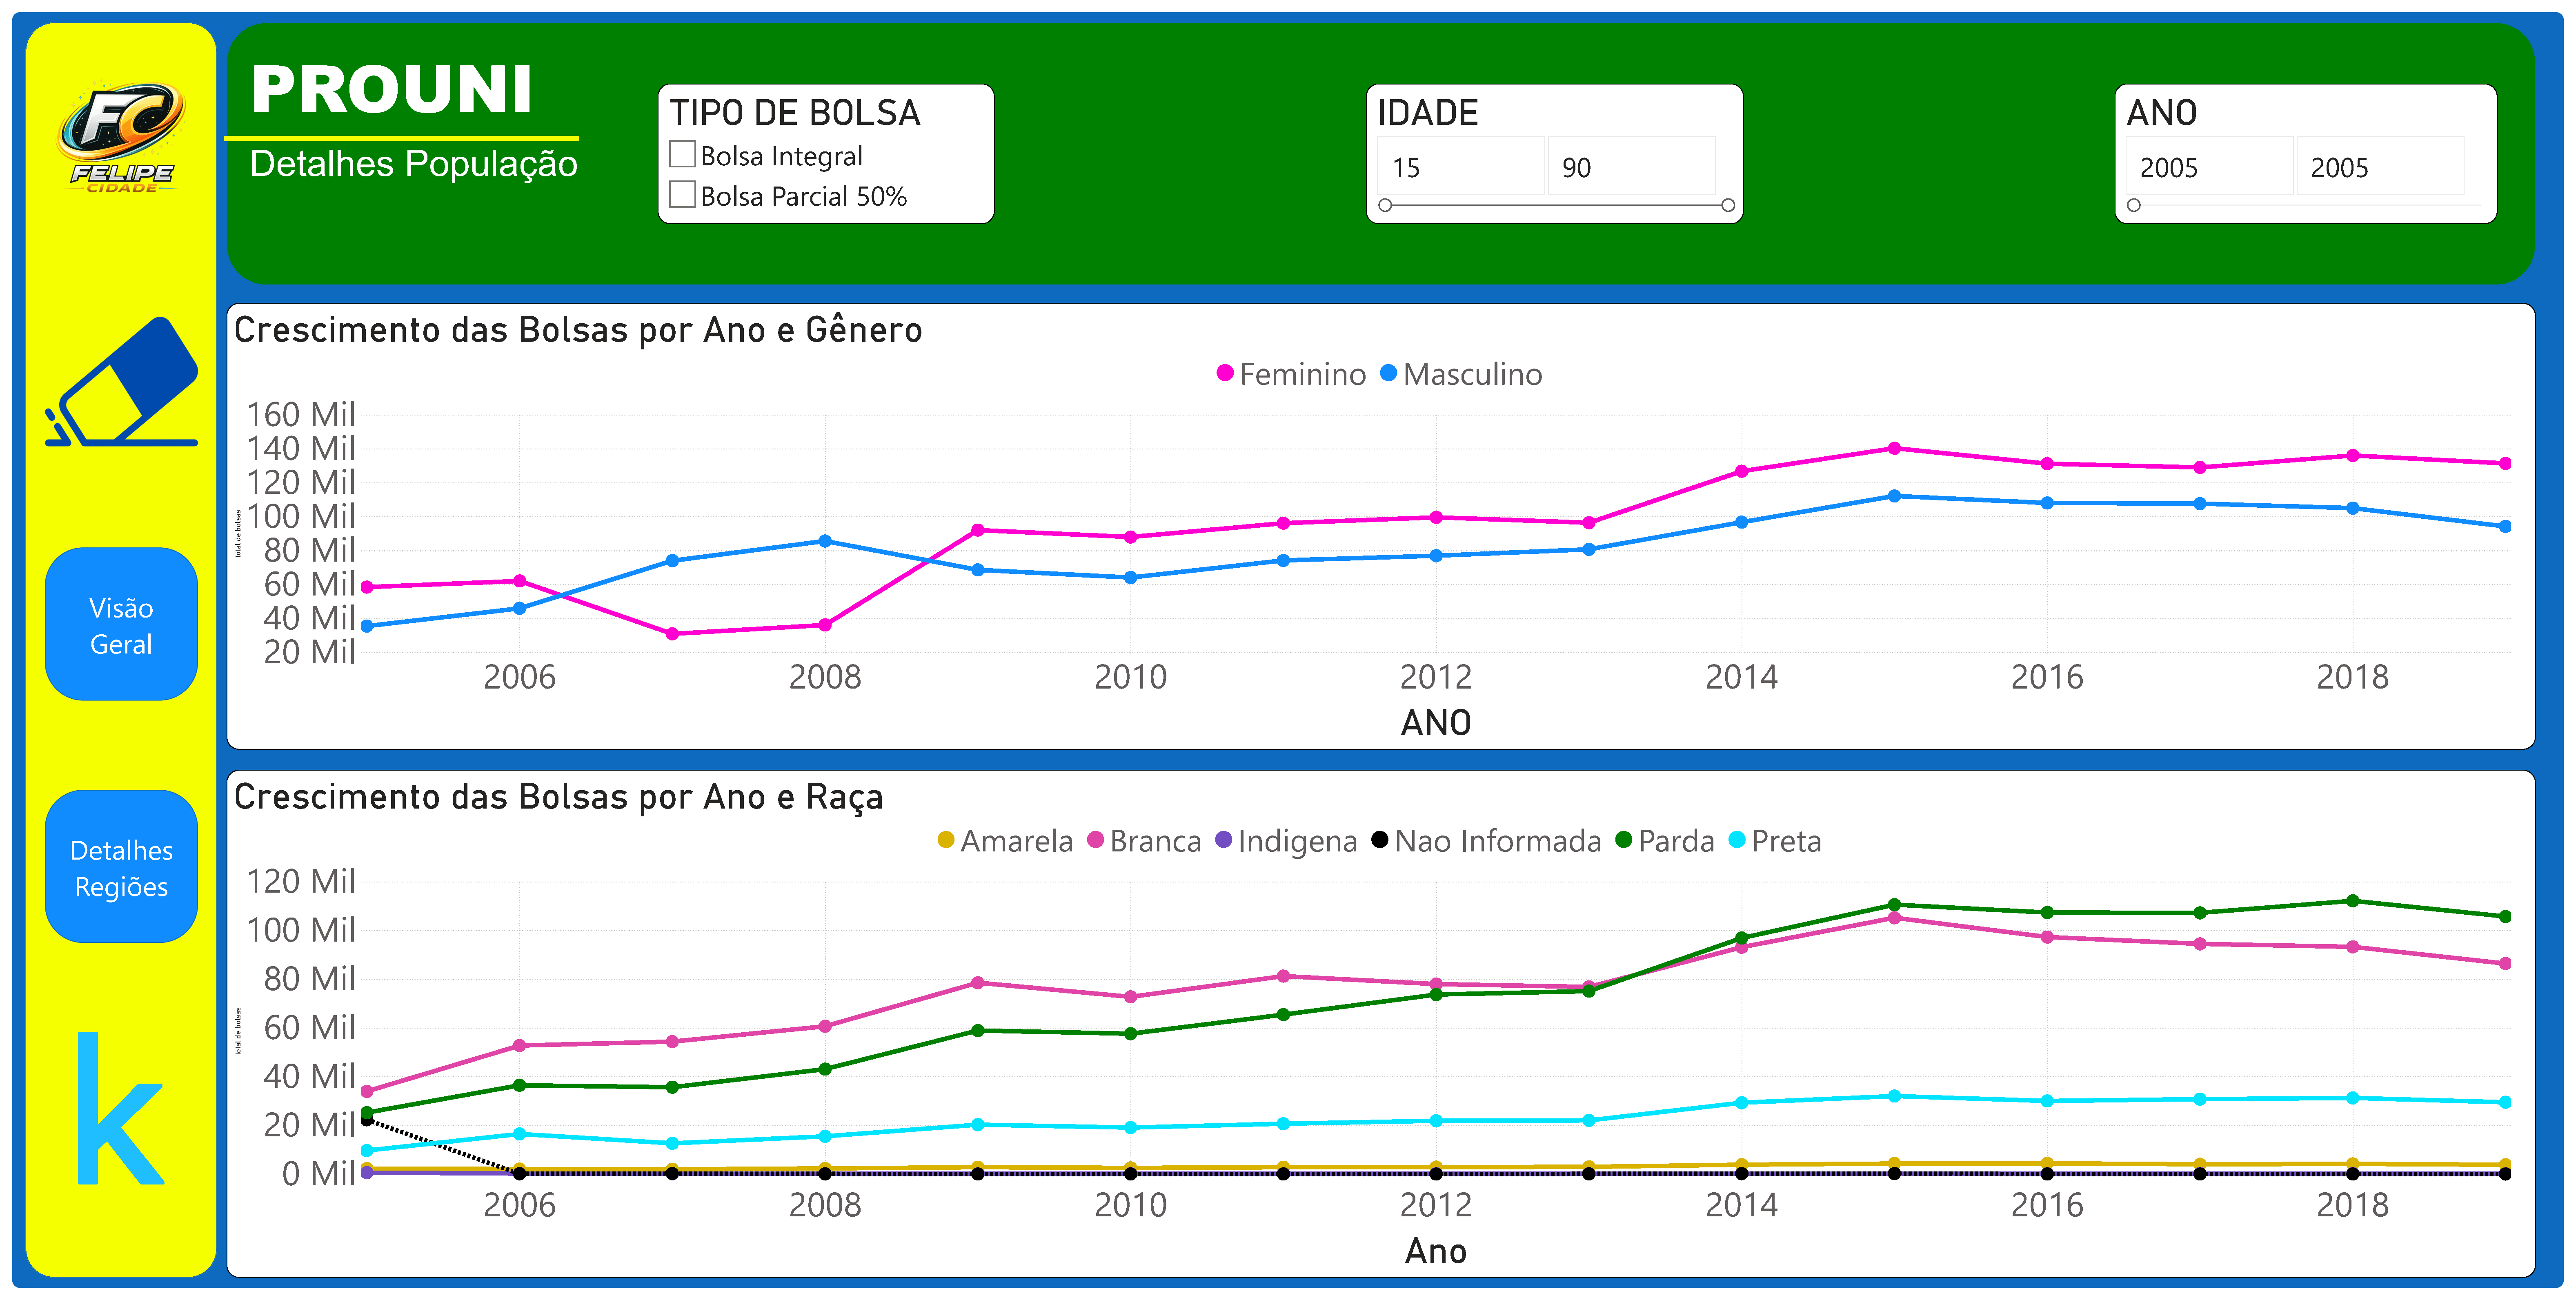

The dashboard page shown, as its layout file describes it:
{"tool":"powerbi","page":{"name":"detalhes população","canvas":[5000,2500],"ordinal":1},"visuals":[{"type":"group","id":"g1","title":"Elementos de Layout","box":[0,0,5000,2500],"z":0},{"type":"shape","title":"fundo-azul","box":[0,0,5000,2500],"z":500,"group":"g1"},{"type":"shape","title":"lateral-amarela","box":[25.9,20,375,2459.6],"z":1000,"group":"g1"},{"type":"slicer","fields":{"Values":["prouni_2005_2019_processed.ANO DE CONCESSÃO"]},"box":[4120,140,750,275],"z":1000},{"type":"image","title":"Kaggle","box":[27.1,1999.5,372.5,298],"z":1000,"group":"g2"},{"type":"shape","title":"superior-verde","box":[420,20,4525,515],"z":2000,"group":"g1"},{"type":"image","title":"logo","box":[25.9,99.3,375,300],"z":2000,"group":"g2"},{"type":"textbox","box":[460,250,670,145],"z":2000},{"type":"group","id":"g2","title":"Botões e logo","box":[25.9,99.3,375,2198.2],"z":2500,"group":"g1"},{"type":"textbox","box":[460,50,625,200],"z":3000},{"type":"lineChart","title":"Crescimento das Bolsas por Ano e Gênero","fields":{"Category":["prouni_2005_2019_processed.ANO"],"Series":["prouni_2005_2019_processed.GÊNERO"],"Y":["medidas.total de bolsas"]},"box":[420,570,4525,875],"z":4000},{"type":"slicer","fields":{"Values":["prouni_2005_2019_processed.TIPO DE BOLSA"]},"box":[1265,140,660,275],"z":5000},{"type":"shape","box":[415,95,695,305],"z":6000},{"type":"lineChart","title":"Crescimento das Bolsas por Ano e Raça","fields":{"Category":["prouni_2005_2019_processed.ANO"],"Series":["prouni_2005_2019_processed.RAÇA"],"Y":["medidas.total de bolsas"]},"box":[420,1485,4525,995],"z":7000},{"type":"slicer","fields":{"Values":["prouni_2005_2019_processed.IDADE"]},"box":[2652.5,140,740,275],"z":8000},{"type":"image","box":[64.4,574.3,300,300],"z":9000},{"type":"shape","title":"Detalhes População","box":[64.4,1049.4,300,300],"z":10000},{"type":"shape","title":"Detalhes População","box":[64.4,1524.5,300,300],"z":11000}]}

Visuals, with their boxes in screenshot pixels (x1, y1, x2, y2), scaled from the page's 5000x2500 canvas onto the 2576x1300 screenshot:
"Elementos de Layout" group: [0, 0, 2576, 1300]
"fundo-azul" shape: [0, 0, 2576, 1300]
"lateral-amarela" shape: [13, 10, 207, 1289]
slicer - prouni_2005_2019_processed.ANO DE CONCESSÃO: [2122, 73, 2509, 216]
"Kaggle" image: [14, 1040, 206, 1195]
"superior-verde" shape: [216, 10, 2548, 278]
"logo" image: [13, 52, 207, 208]
textbox: [237, 130, 582, 205]
"Botões e logo" group: [13, 52, 207, 1195]
textbox: [237, 26, 559, 130]
"Crescimento das Bolsas por Ano e Gênero" lineChart: [216, 296, 2548, 751]
slicer - prouni_2005_2019_processed.TIPO DE BOLSA: [652, 73, 992, 216]
shape: [214, 49, 572, 208]
"Crescimento das Bolsas por Ano e Raça" lineChart: [216, 772, 2548, 1290]
slicer - prouni_2005_2019_processed.IDADE: [1366, 73, 1748, 216]
image: [33, 299, 188, 455]
"Detalhes População" shape: [33, 546, 188, 702]
"Detalhes População" shape: [33, 793, 188, 949]
